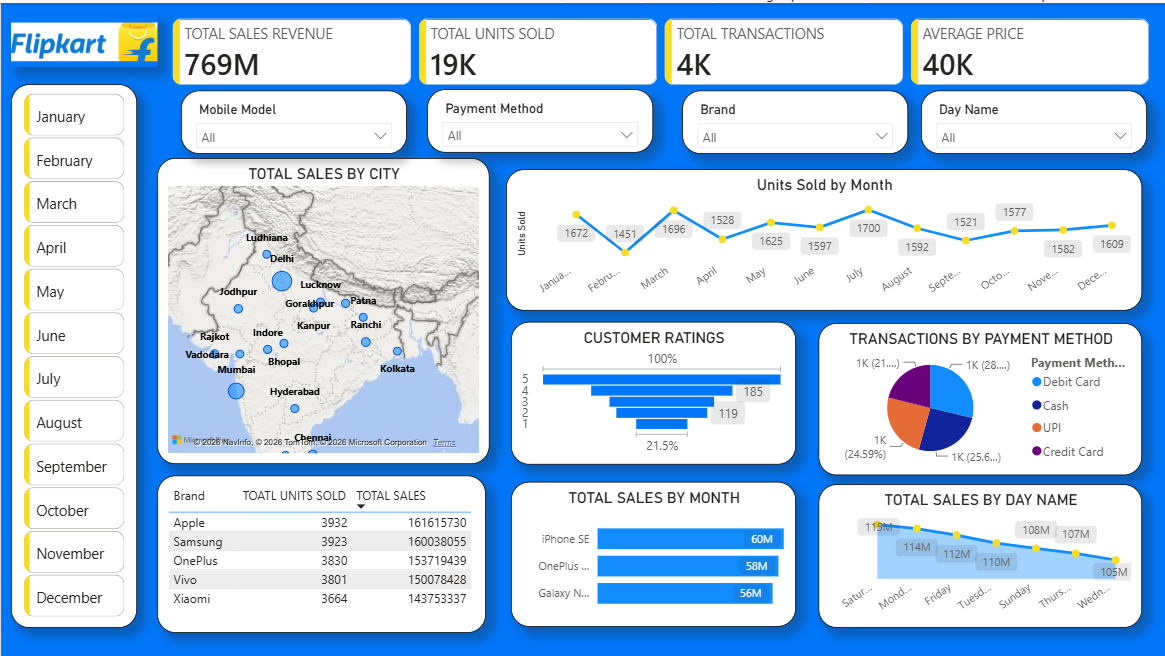

Layout of this report page (visuals, bound fields, positions):
{"tool":"powerbi","page":{"name":"Page 1","canvas":[1280,720],"ordinal":0},"visuals":[{"type":"image","box":[11,15.1,160.5,54.9],"z":0},{"type":"shape","box":[11,89.2,138.6,596.9],"z":1000},{"type":"advancedSlicerVisual","fields":{"Values":["mobile_sales_data.Date.Variation.Date Hierarchy.Month"]},"box":[20.6,94.7,120.8,585.9],"z":2000},{"type":"cardVisual","fields":{"Data":["mobile_sales_data.total_sales","mobile_sales_data.total_units_sold","mobile_sales_data.transactions","mobile_sales_data.Average_price"]},"box":[171.5,0,1108.8,107],"z":3000},{"type":"map","title":"TOTAL SALES BY CITY","fields":{"Category":["mobile_sales_data.City"],"Size":["mobile_sales_data.total_sales"]},"box":[171.5,170.2,365,336.2],"z":4000},{"type":"lineChart","fields":{"Y":["mobile_sales_data.total_units_sold"],"Category":["mobile_sales_data.Date.Variation.Date Hierarchy.Month","mobile_sales_data.Date.Variation.Date Hierarchy.Day"]},"box":[548.9,183.9,698.5,155.1],"z":5000},{"type":"clusteredBarChart","title":"TOTAL SALES BY MONTH","fields":{"Category":["mobile_sales_data.Mobile Model"],"Y":["mobile_sales_data.total_sales"]},"box":[559.9,525.6,312.9,159.2],"z":6000},{"type":"pieChart","title":"TRANSACTIONS BY PAYMENT METHOD","fields":{"Y":["mobile_sales_data.total_units_sold"],"Category":["mobile_sales_data.Payment Method"]},"box":[897.4,351.3,355.4,167.4],"z":7000},{"type":"funnel","title":"CUSTOMER RATINGS","fields":{"Category":["mobile_sales_data.Customer Ratings"],"Y":["CountNonNull(mobile_sales_data.Customer Ratings)"]},"box":[559.9,349.9,312.9,156.4],"z":8000},{"type":"areaChart","title":"TOTAL SALES BY DAY NAME","fields":{"Y":["mobile_sales_data.total_sales"],"Category":["mobile_sales_data.Day Name"]},"box":[897.4,528.3,355.4,157.8],"z":9000},{"type":"tableEx","fields":{"Values":["mobile_sales_data.Brand","mobile_sales_data.total_units_sold","mobile_sales_data.total_sales"]},"box":[171.5,518.7,360.9,172.9],"z":10000},{"type":"slicer","fields":{"Values":["mobile_sales_data.Mobile Model"]},"box":[197.6,96.1,248.4,70],"z":11000},{"type":"slicer","fields":{"Values":["mobile_sales_data.Payment Method"]},"box":[467.9,94.7,248.4,70],"z":12000},{"type":"slicer","fields":{"Values":["mobile_sales_data.Brand"]},"box":[747.9,96.1,248.4,70],"z":13000},{"type":"slicer","fields":{"Values":["mobile_sales_data.Day Name"]},"box":[1010,96.1,248.4,70],"z":14000}]}

Visuals, with their boxes in screenshot pixels (x1, y1, x2, y2), scaled from the page's 1280x720 canvas onto the 1165x656 screenshot:
image: box=[10, 14, 156, 64]
shape: box=[10, 81, 136, 625]
advancedSlicerVisual - mobile_sales_data.Date.Variation.Date Hierarchy.Month: box=[19, 86, 129, 620]
cardVisual - mobile_sales_data.total_sales x mobile_sales_data.total_units_sold: box=[156, 0, 1164, 97]
"TOTAL SALES BY CITY" map: box=[156, 155, 488, 461]
lineChart - mobile_sales_data.total_units_sold x mobile_sales_data.Date.Variation.Date Hierarchy.Month: box=[500, 168, 1135, 309]
"TOTAL SALES BY MONTH" clusteredBarChart: box=[510, 479, 794, 624]
"TRANSACTIONS BY PAYMENT METHOD" pieChart: box=[817, 320, 1140, 473]
"CUSTOMER RATINGS" funnel: box=[510, 319, 794, 461]
"TOTAL SALES BY DAY NAME" areaChart: box=[817, 481, 1140, 625]
tableEx - mobile_sales_data.Brand x mobile_sales_data.total_units_sold: box=[156, 473, 485, 630]
slicer - mobile_sales_data.Mobile Model: box=[180, 88, 406, 151]
slicer - mobile_sales_data.Payment Method: box=[426, 86, 652, 150]
slicer - mobile_sales_data.Brand: box=[681, 88, 907, 151]
slicer - mobile_sales_data.Day Name: box=[919, 88, 1145, 151]
